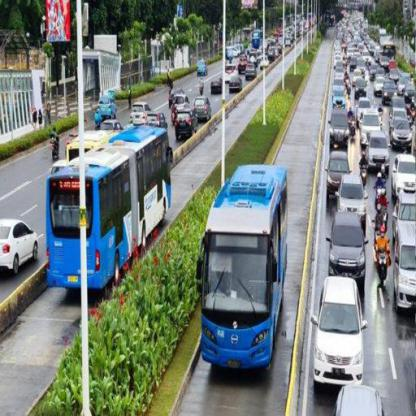bus: (44, 112, 172, 298), (196, 162, 286, 370)
car: (315, 273, 366, 387), (388, 187, 416, 311), (329, 210, 366, 276), (0, 219, 38, 278), (336, 173, 368, 219), (363, 130, 392, 171), (391, 153, 415, 197), (325, 149, 351, 187), (327, 107, 351, 145), (171, 111, 199, 138), (193, 96, 211, 122)
motorbike: (374, 244, 393, 289)
